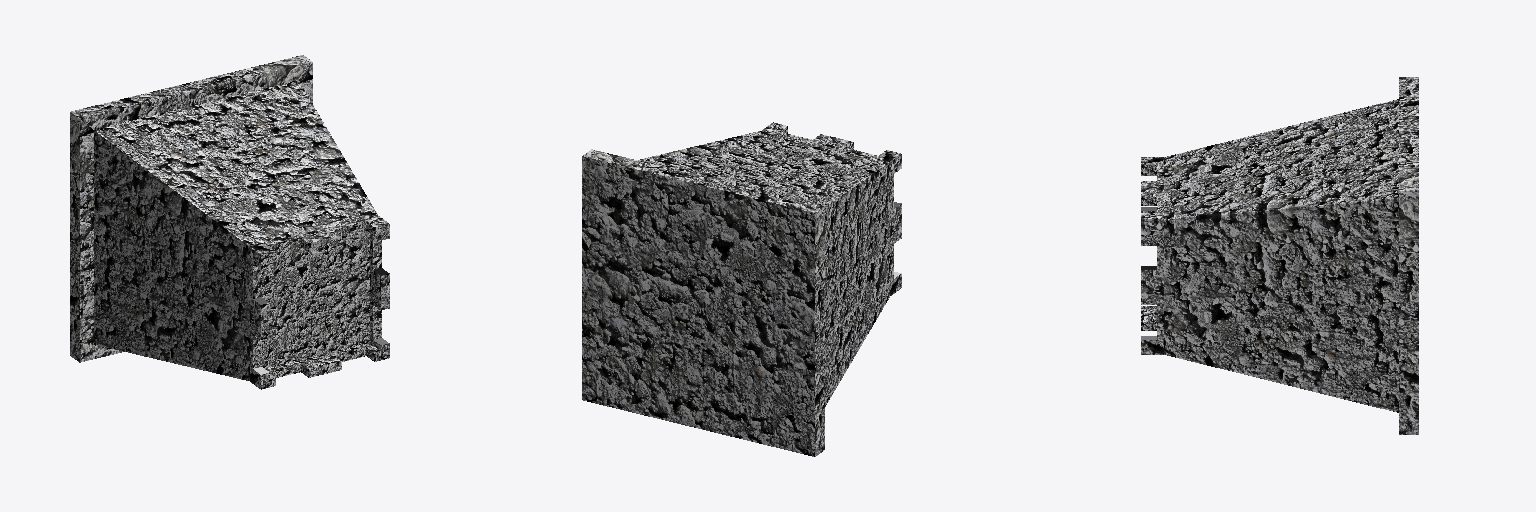
3 renders of one model, left to right at view 1: azimuth 30°, elevation 25°; view 2: azimuth 150°, elevation 25°; view 3: azimuth 270°, elevation 25°, orthographic.
Visible parts, largest first — view 1: Box001; view 2: Box001; view 3: Box001.
Part boxes in pixels (bbox=[...]): Box001: bbox=[70, 55, 389, 389]; Box001: bbox=[582, 122, 901, 456]; Box001: bbox=[1141, 77, 1418, 434].
Bounding box in the file's own units: 40 × 40 × 41.17.
1 materials, 1 textured.